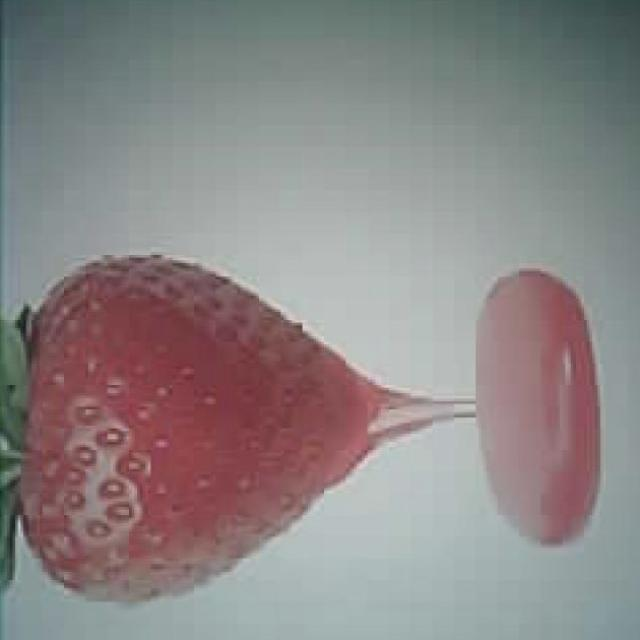Healthy Fruit: (9, 255, 397, 615)
